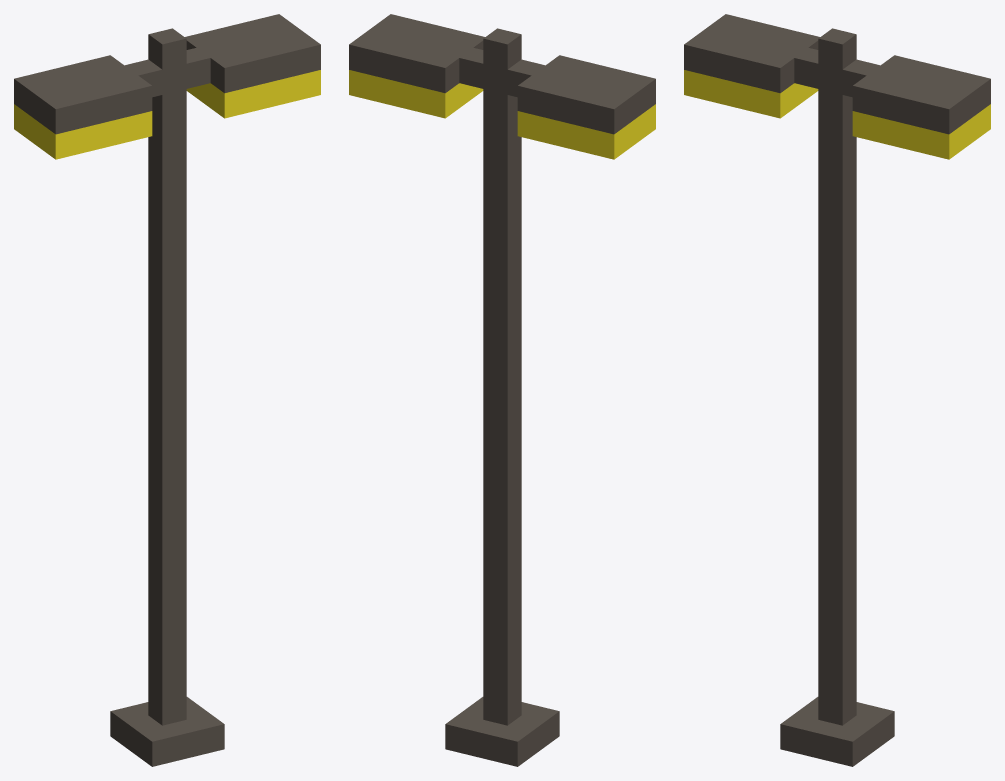
File: light_pole.obj
3 views of the same model, side by side, from view 1: azimuth 30°, elevation 25°; view 2: azimuth 150°, elevation 25°; view 3: azimuth 330°, elevation 25° (orthographic).
Bounding box in the file's own units: 1.1 × 2.8 × 0.3.
Materials: 1 (1 with a texture image).
